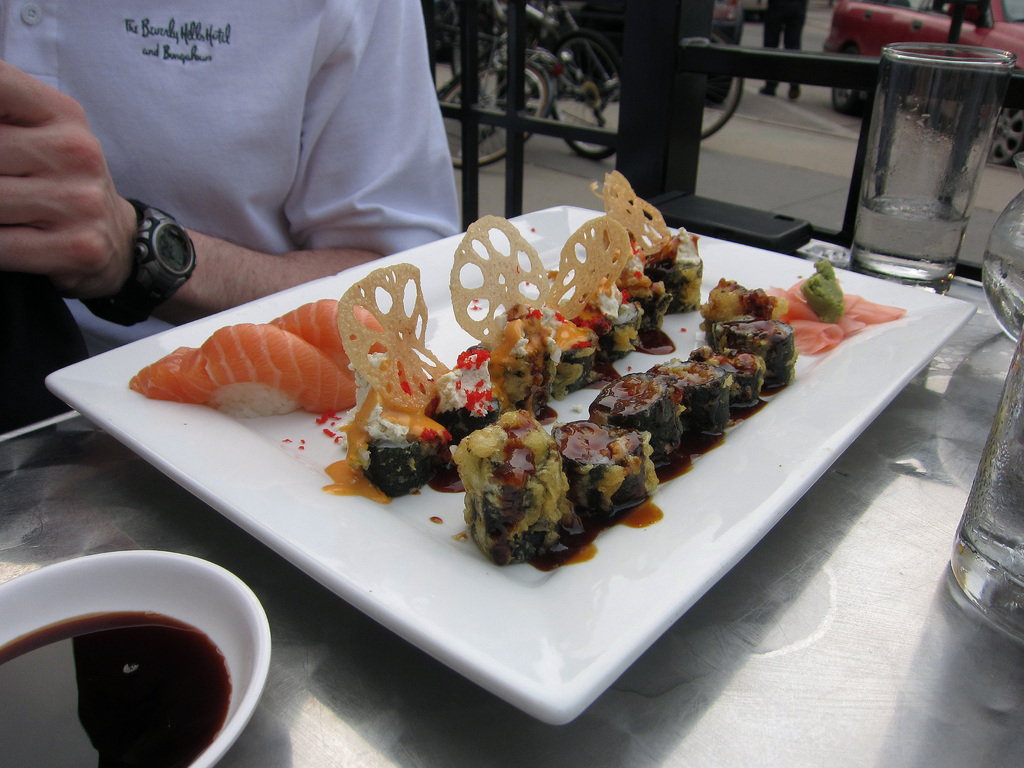sushi: (141, 315, 358, 451), (269, 300, 422, 380)
